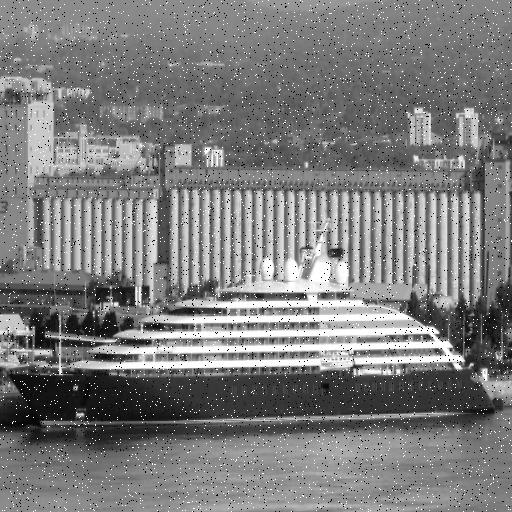cruises: (12, 234, 508, 432)
